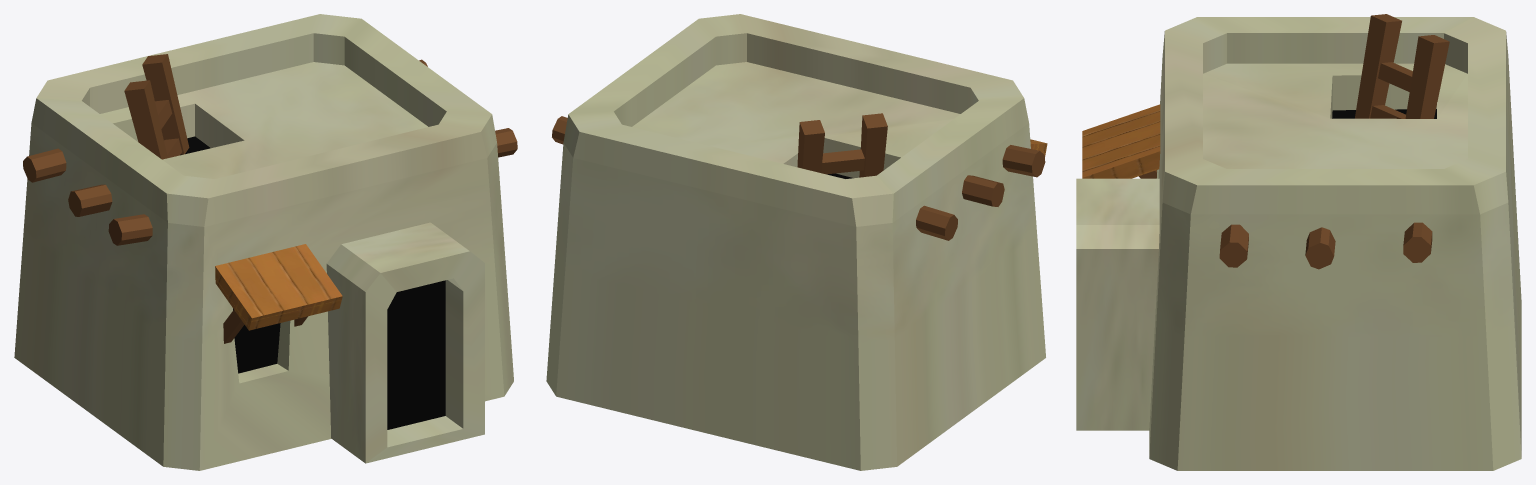
Rendered from Medium House.fbx.
3 renders of one model, left to right at view 1: azimuth 30°, elevation 25°; view 2: azimuth 150°, elevation 25°; view 3: azimuth 270°, elevation 25°, orthographic. The views are drawn at different scales.
Visible parts, largest first — view 1: Cube.005, Cube.006, Cube.007, Cube.013, Cube.010, Cube.047, Cube.048, Cube.049, Cube.044; view 2: Cube.005, Cube.010, Cube.013, Cube.047, Cube.049, Cube.048, Cube.012; view 3: Cube.005, Cube.006, Cube.007, Cube.010, Cube.013, Cube.044, Cube.045, Cube.046, Cube.012.
Boxes of the visible parts, bbox=[...] form: Cube.005: bbox=[14, 14, 513, 470]; Cube.006: bbox=[326, 222, 484, 463]; Cube.007: bbox=[215, 244, 342, 330]; Cube.013: bbox=[142, 54, 189, 154]; Cube.010: bbox=[124, 80, 167, 159]; Cube.047: bbox=[108, 214, 152, 245]; Cube.048: bbox=[68, 184, 112, 216]; Cube.049: bbox=[23, 148, 66, 182]; Cube.044: bbox=[495, 128, 517, 157]; Cube.005: bbox=[546, 14, 1045, 470]; Cube.010: bbox=[859, 113, 887, 177]; Cube.013: bbox=[797, 120, 824, 172]; Cube.047: bbox=[1002, 145, 1045, 177]; Cube.049: bbox=[916, 205, 957, 240]; Cube.048: bbox=[962, 175, 1004, 206]; Cube.012: bbox=[821, 149, 864, 174]; Cube.005: bbox=[1149, 17, 1521, 470]; Cube.006: bbox=[1076, 178, 1159, 430]; Cube.007: bbox=[1082, 104, 1160, 178]; Cube.010: bbox=[1355, 14, 1401, 118]; Cube.013: bbox=[1405, 35, 1449, 118]; Cube.044: bbox=[1219, 224, 1248, 267]; Cube.045: bbox=[1305, 227, 1335, 269]; Cube.046: bbox=[1403, 222, 1432, 262]; Cube.012: bbox=[1378, 62, 1412, 91].
Bounding box in the file's own units: 1020 × 722 × 936.
4 materials, 2 textured.
